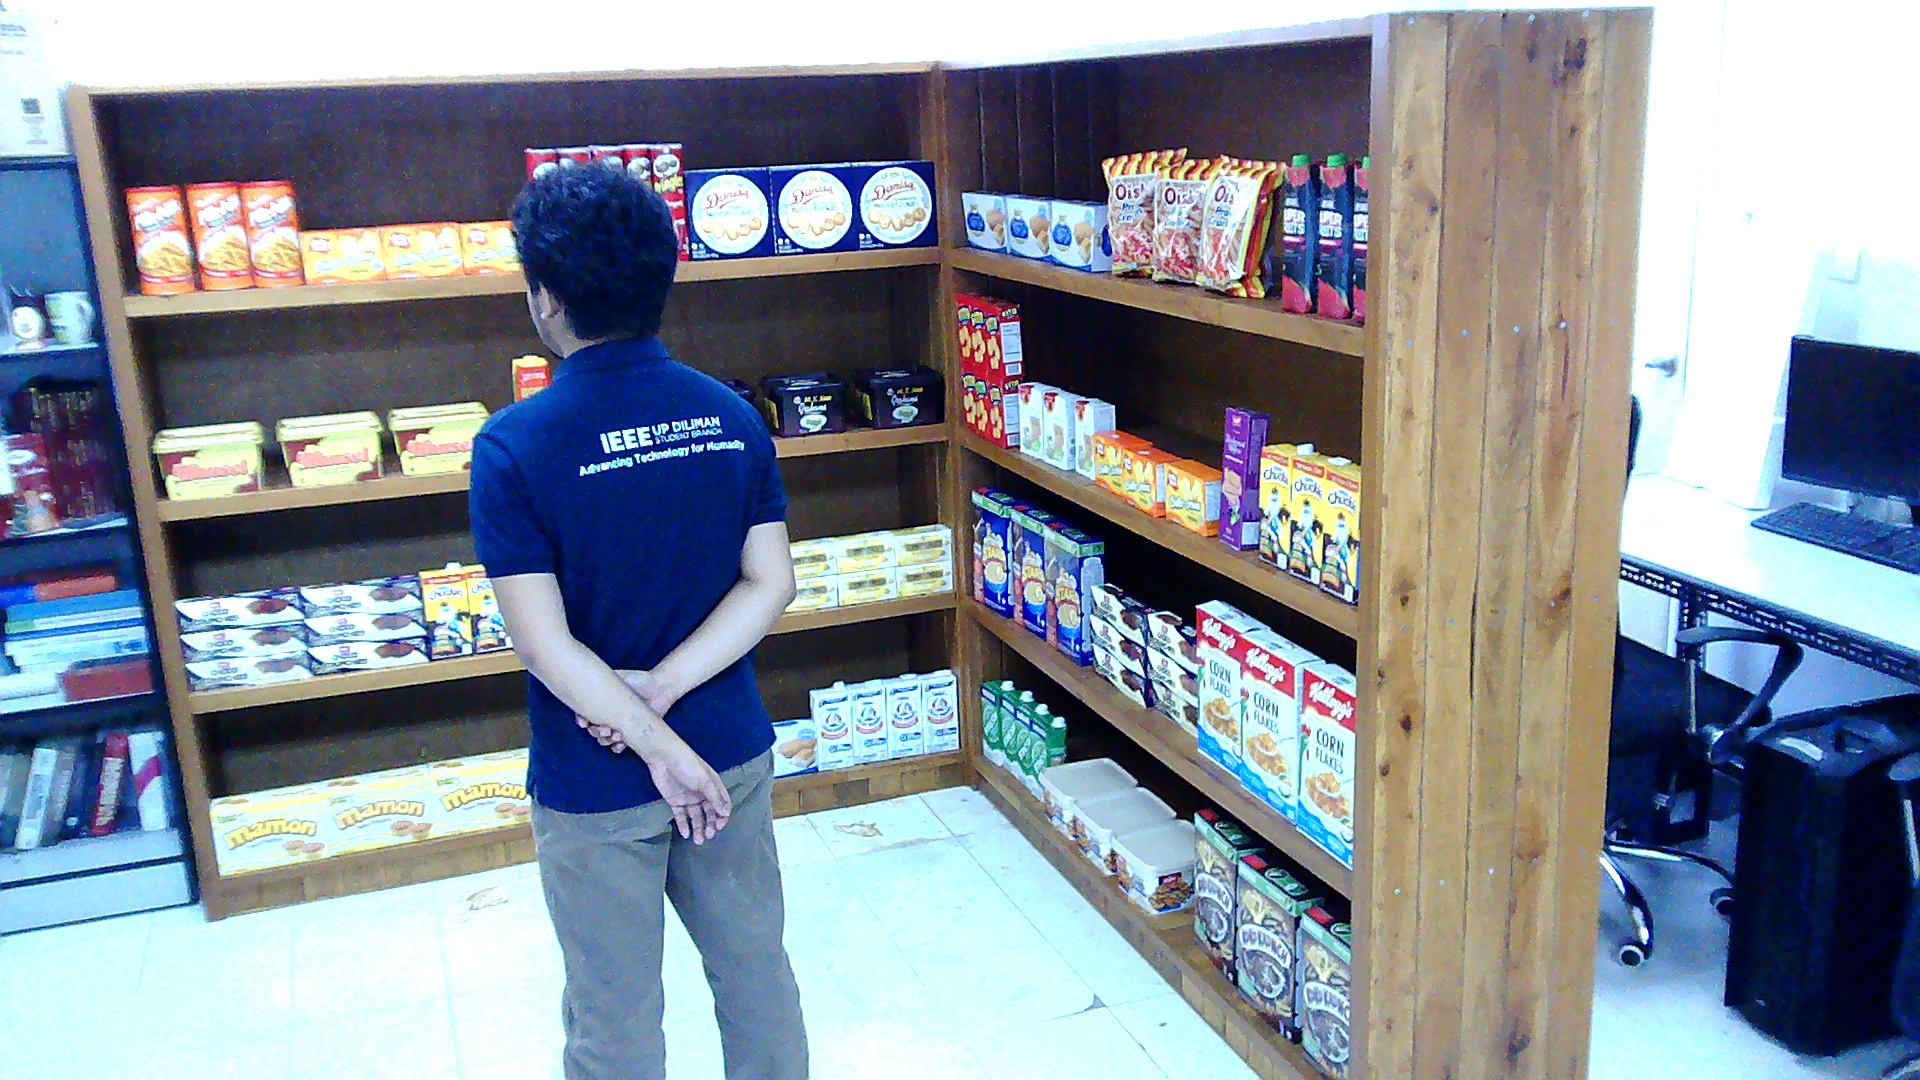Bear brand: (810, 682, 852, 770), (846, 679, 888, 762), (879, 675, 921, 756), (917, 670, 956, 753)
Buttercake: (1050, 198, 1110, 270), (1005, 193, 1056, 261), (960, 189, 1014, 252), (770, 717, 815, 776)
Butterlicious: (300, 224, 384, 283), (1119, 443, 1182, 515), (381, 223, 459, 279), (1164, 459, 1221, 535), (1092, 429, 1149, 494), (455, 220, 518, 272)
Camomille: (887, 522, 950, 562), (831, 531, 894, 569), (837, 565, 897, 603), (780, 576, 837, 612), (789, 538, 837, 578), (897, 558, 951, 594)
Choco Crunchies: (170, 585, 299, 634), (297, 571, 420, 616), (180, 621, 306, 661), (183, 650, 309, 690), (303, 608, 426, 644), (1089, 582, 1155, 645), (308, 637, 425, 673), (1092, 641, 1146, 706), (1088, 614, 1145, 675), (1149, 679, 1197, 738), (1146, 609, 1194, 670), (1146, 645, 1194, 704)
Chocolate Chips: (1037, 756, 1136, 839), (1110, 819, 1191, 913)
Chuckie: (1287, 452, 1347, 585), (1260, 441, 1317, 569), (1320, 461, 1362, 605), (419, 560, 470, 657), (465, 565, 513, 653)
Danisa: (765, 160, 855, 252), (851, 158, 938, 250), (687, 164, 771, 256)
Fita: (984, 299, 1020, 378), (987, 374, 1017, 448), (969, 295, 999, 369), (953, 290, 980, 360), (972, 365, 990, 439), (959, 360, 974, 430)
Fresh Milk: (1070, 785, 1175, 873), (1029, 713, 1065, 801), (978, 677, 1014, 765), (1014, 700, 1047, 790), (998, 688, 1031, 776)
Grahams: (848, 362, 941, 427), (759, 371, 846, 436)
Hansel: (273, 407, 384, 486), (150, 421, 264, 497), (384, 401, 489, 473)
Head: (503, 157, 686, 364)
Honey Stars: (1041, 515, 1104, 666), (972, 483, 1026, 618), (1010, 501, 1055, 638)
Kellogg Corn Flakes: (1239, 627, 1323, 821), (1197, 599, 1269, 781), (1296, 661, 1356, 870)
Koko Krunch: (1239, 852, 1326, 1043), (1194, 805, 1263, 983), (1302, 902, 1350, 1078)
Locally Mango: (509, 353, 548, 400)
Mamon: (207, 781, 333, 873), (320, 763, 437, 853), (426, 747, 531, 835)
Oishi Prawn: (1194, 153, 1287, 297), (1101, 143, 1185, 276), (1152, 155, 1218, 283)
Pik-nik: (123, 185, 195, 295), (183, 180, 249, 288), (237, 178, 300, 286)
Pringles: (651, 141, 690, 260), (621, 141, 651, 186)
Super Fruits: (1281, 151, 1320, 311), (1317, 150, 1353, 317), (1353, 154, 1368, 321)
Wafer: (1217, 405, 1268, 549)
iHop: (1074, 396, 1116, 479), (1041, 386, 1083, 467), (1017, 380, 1056, 459)
